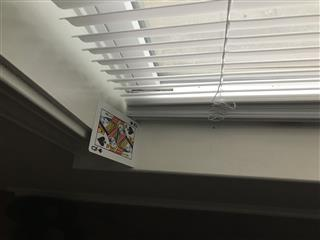QueenOfSpades: (87, 98, 140, 168)
